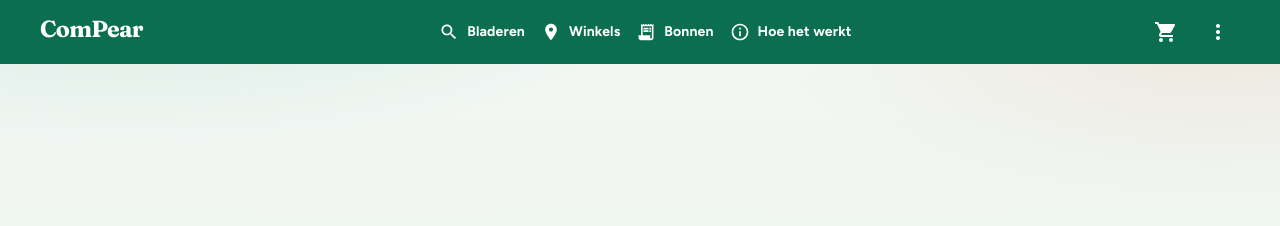
Scenario: accessibility and translations › exposes the navigation menu state and localized accessible name
The width and height of the screenshot is (1280, 226).
Step 1. Click the button named "Navigatiemenu openen" → {"x": 1218, "y": 32}, box top-left (1196, 10), bottom-right (1240, 54)
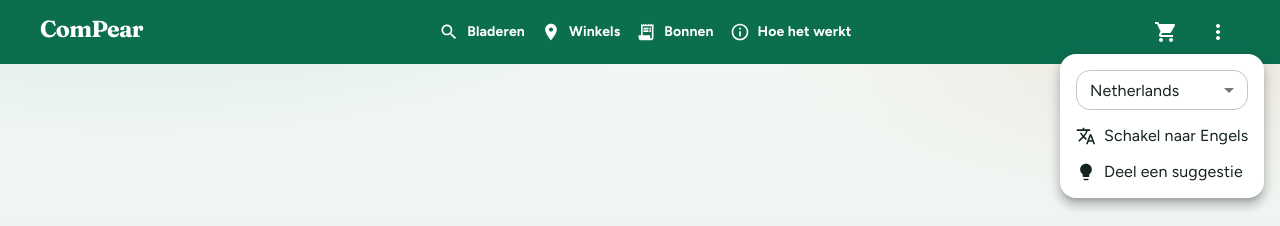
Check: the dropdown labelled "land" is shown, box top-left (1090, 80), bottom-right (1179, 100)
